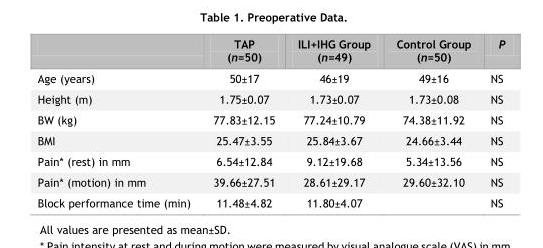table: (36, 36, 504, 209)
table column: (36, 36, 201, 209), (382, 36, 480, 209), (285, 36, 382, 209), (201, 36, 285, 209), (480, 36, 504, 209)
table column header: (36, 36, 504, 67)
table row: (36, 36, 504, 67), (36, 67, 504, 88), (36, 88, 504, 109), (36, 129, 504, 150), (36, 150, 504, 171), (36, 171, 504, 192), (36, 109, 504, 129), (36, 192, 504, 209)
